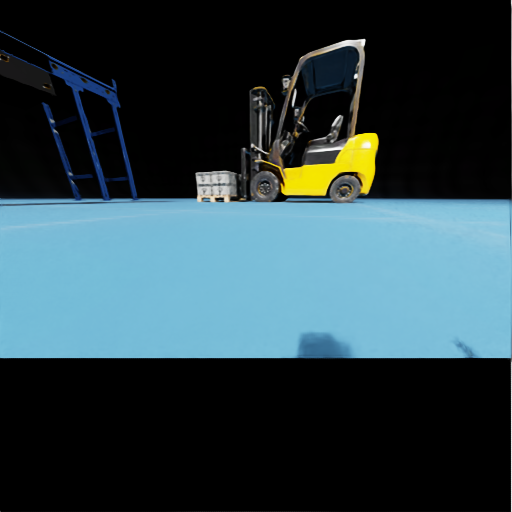transportation_area: (212, 184, 240, 194)
